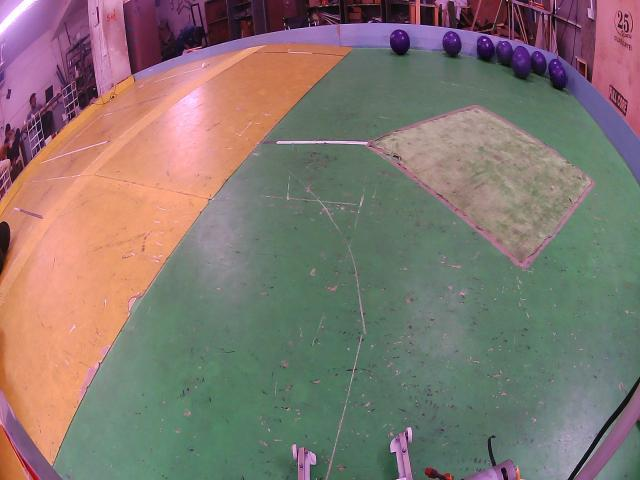jambhalya: (512, 47, 531, 78), (390, 30, 410, 55), (443, 31, 461, 56), (477, 36, 494, 61), (551, 65, 567, 90), (532, 50, 546, 75), (497, 42, 512, 64), (549, 58, 561, 75)
